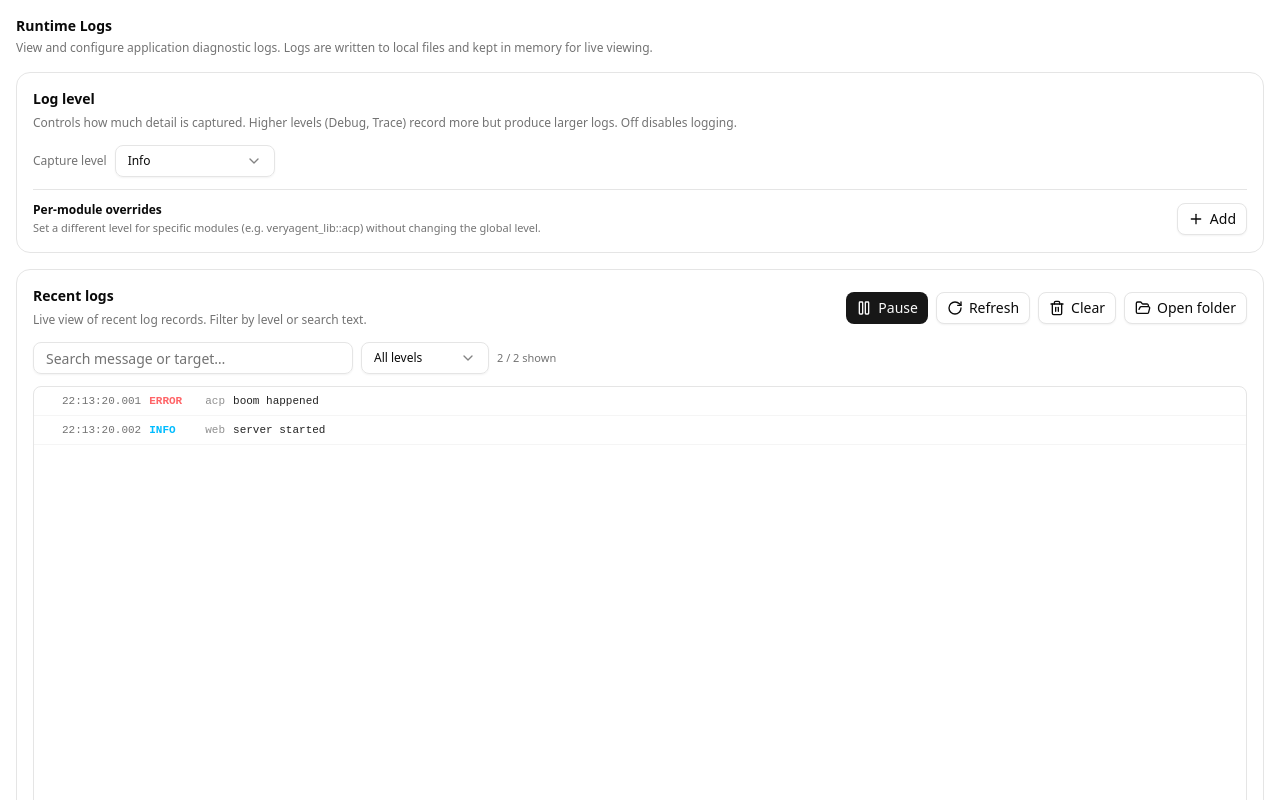
Test: LogsSettings › filters displayed records by search text
Expected: the text "boom happened" is shown, [233,391,319,411]
Type "boom" into the field with placeholder "Search message or target…" at (193,358), box [33,342,353,374]
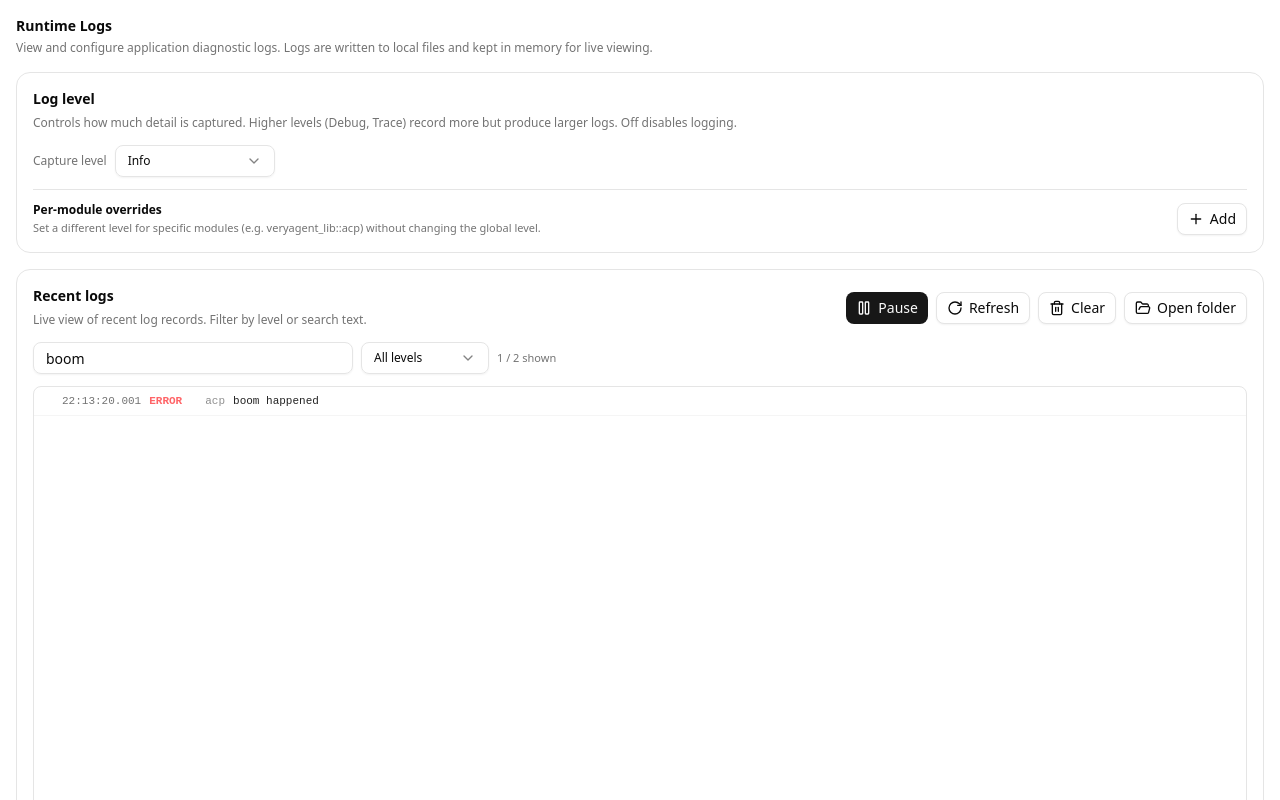
Expected: the text "boom happened" is shown, [233,391,319,411]
Expected: the text "server started" is gone
